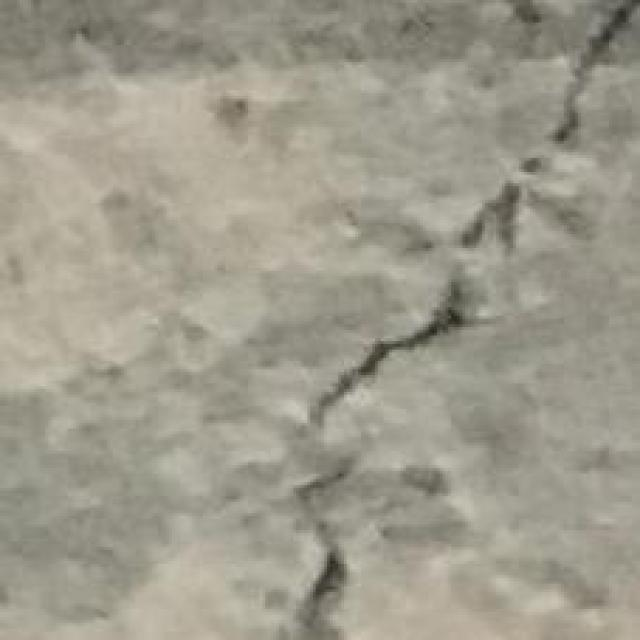Crack: (307, 0, 637, 420), (290, 460, 344, 637)
